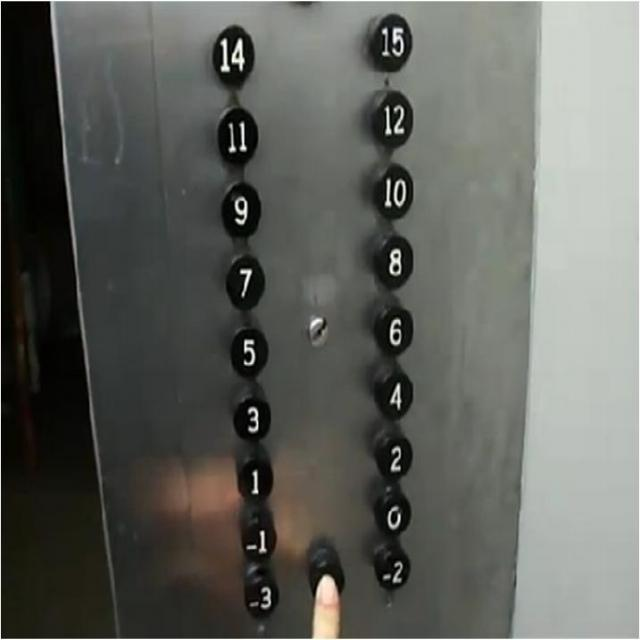-1: (236, 504, 276, 562)
-2: (372, 541, 411, 592)
-3: (241, 564, 279, 617)
0: (372, 487, 412, 538)
1: (233, 447, 274, 502)
10: (367, 159, 413, 220)
11: (213, 102, 259, 167)
12: (364, 87, 414, 152)
14: (210, 20, 255, 90)
15: (366, 12, 412, 74)
2: (370, 424, 412, 481)
3: (231, 384, 271, 442)
4: (372, 362, 414, 417)
5: (228, 322, 268, 380)
6: (372, 301, 413, 357)
7: (223, 252, 264, 310)
8: (372, 230, 413, 290)
9: (220, 177, 262, 238)
keyhole: (305, 314, 333, 348)
